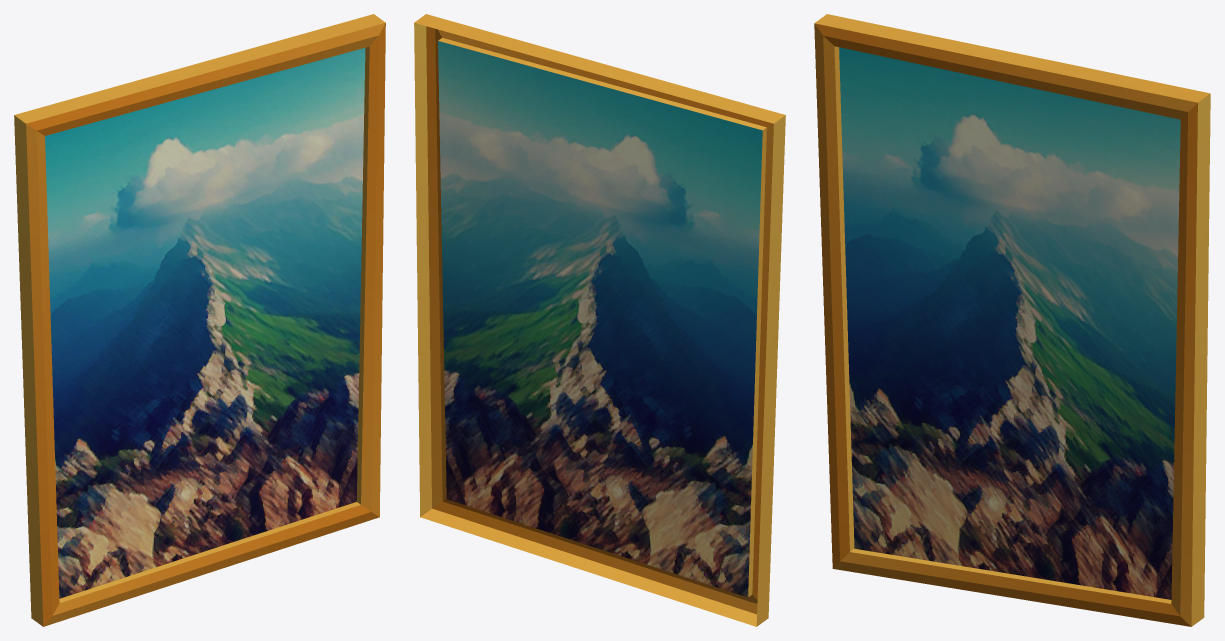
The model's file is painting_04.fbx.
3 views of the same model, side by side, from view 1: azimuth 30°, elevation 25°; view 2: azimuth 150°, elevation 25°; view 3: azimuth 330°, elevation 25° (orthographic). The views are drawn at different scales.
Visible parts, largest first — view 1: painting_04; view 2: painting_04; view 3: painting_04.
Part boxes in pixels (x1=…): painting_04: x1=14, y1=14, x2=385, y2=626; painting_04: x1=414, y1=14, x2=785, y2=626; painting_04: x1=814, y1=14, x2=1210, y2=626.
Size of the model in its own units: 206 by 284 by 12.95.
